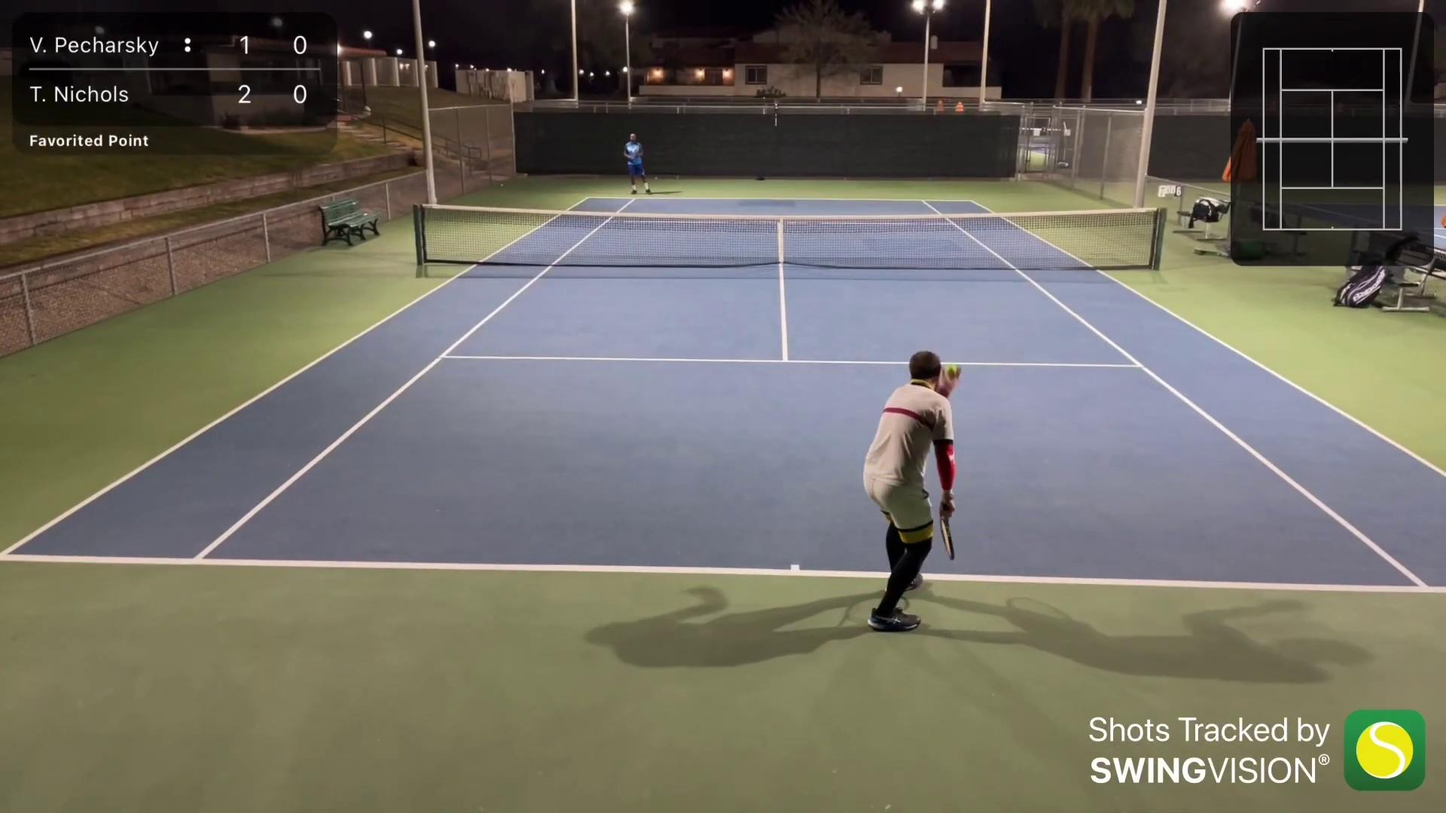ball: (946, 361, 955, 376)
